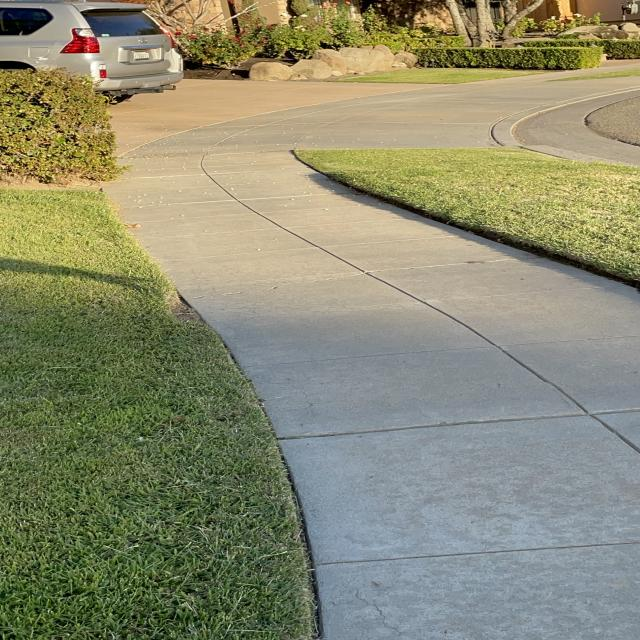walkway: (307, 471, 636, 598), (223, 297, 640, 394), (268, 382, 640, 477), (145, 226, 472, 292), (149, 142, 299, 224)
walkway-edge: (246, 404, 356, 640), (139, 270, 276, 424), (281, 136, 496, 226), (81, 175, 201, 308)
